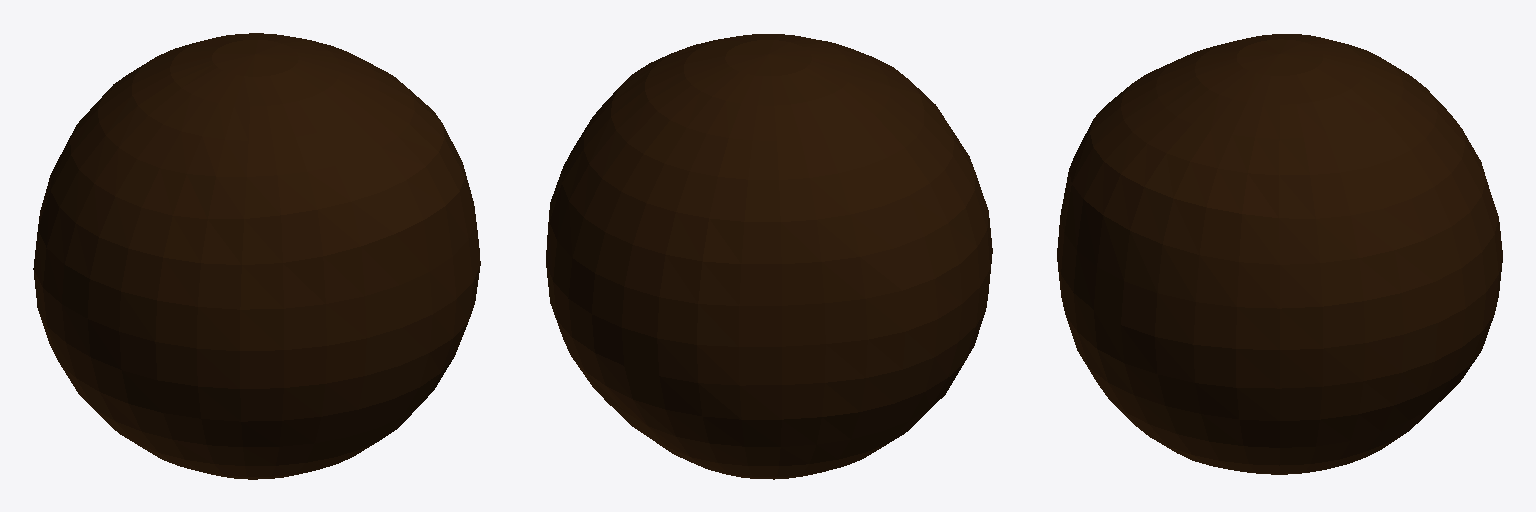
File: boulder.obj
The picture shows the model from 3 angles: view 1: azimuth 30°, elevation 25°; view 2: azimuth 150°, elevation 25°; view 3: azimuth 270°, elevation 25°; orthographic projection.
Visible parts, largest first — view 1: Sphere_Sphere.001; view 2: Sphere_Sphere.001; view 3: Sphere_Sphere.001.
Boxes of the visible parts, x1,y1,x2,y2 form: Sphere_Sphere.001: [33, 33, 480, 479]; Sphere_Sphere.001: [546, 34, 992, 479]; Sphere_Sphere.001: [1057, 34, 1502, 474].
Size of the model in its own units: 7.04 by 6.99 by 7.